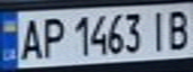1: (69, 12, 90, 56)
3: (121, 9, 148, 54)
4: (87, 11, 109, 56)
6: (106, 10, 127, 55)
A: (15, 15, 45, 61)
B: (163, 7, 193, 52)
I: (145, 7, 172, 52)
P: (36, 13, 66, 60)
